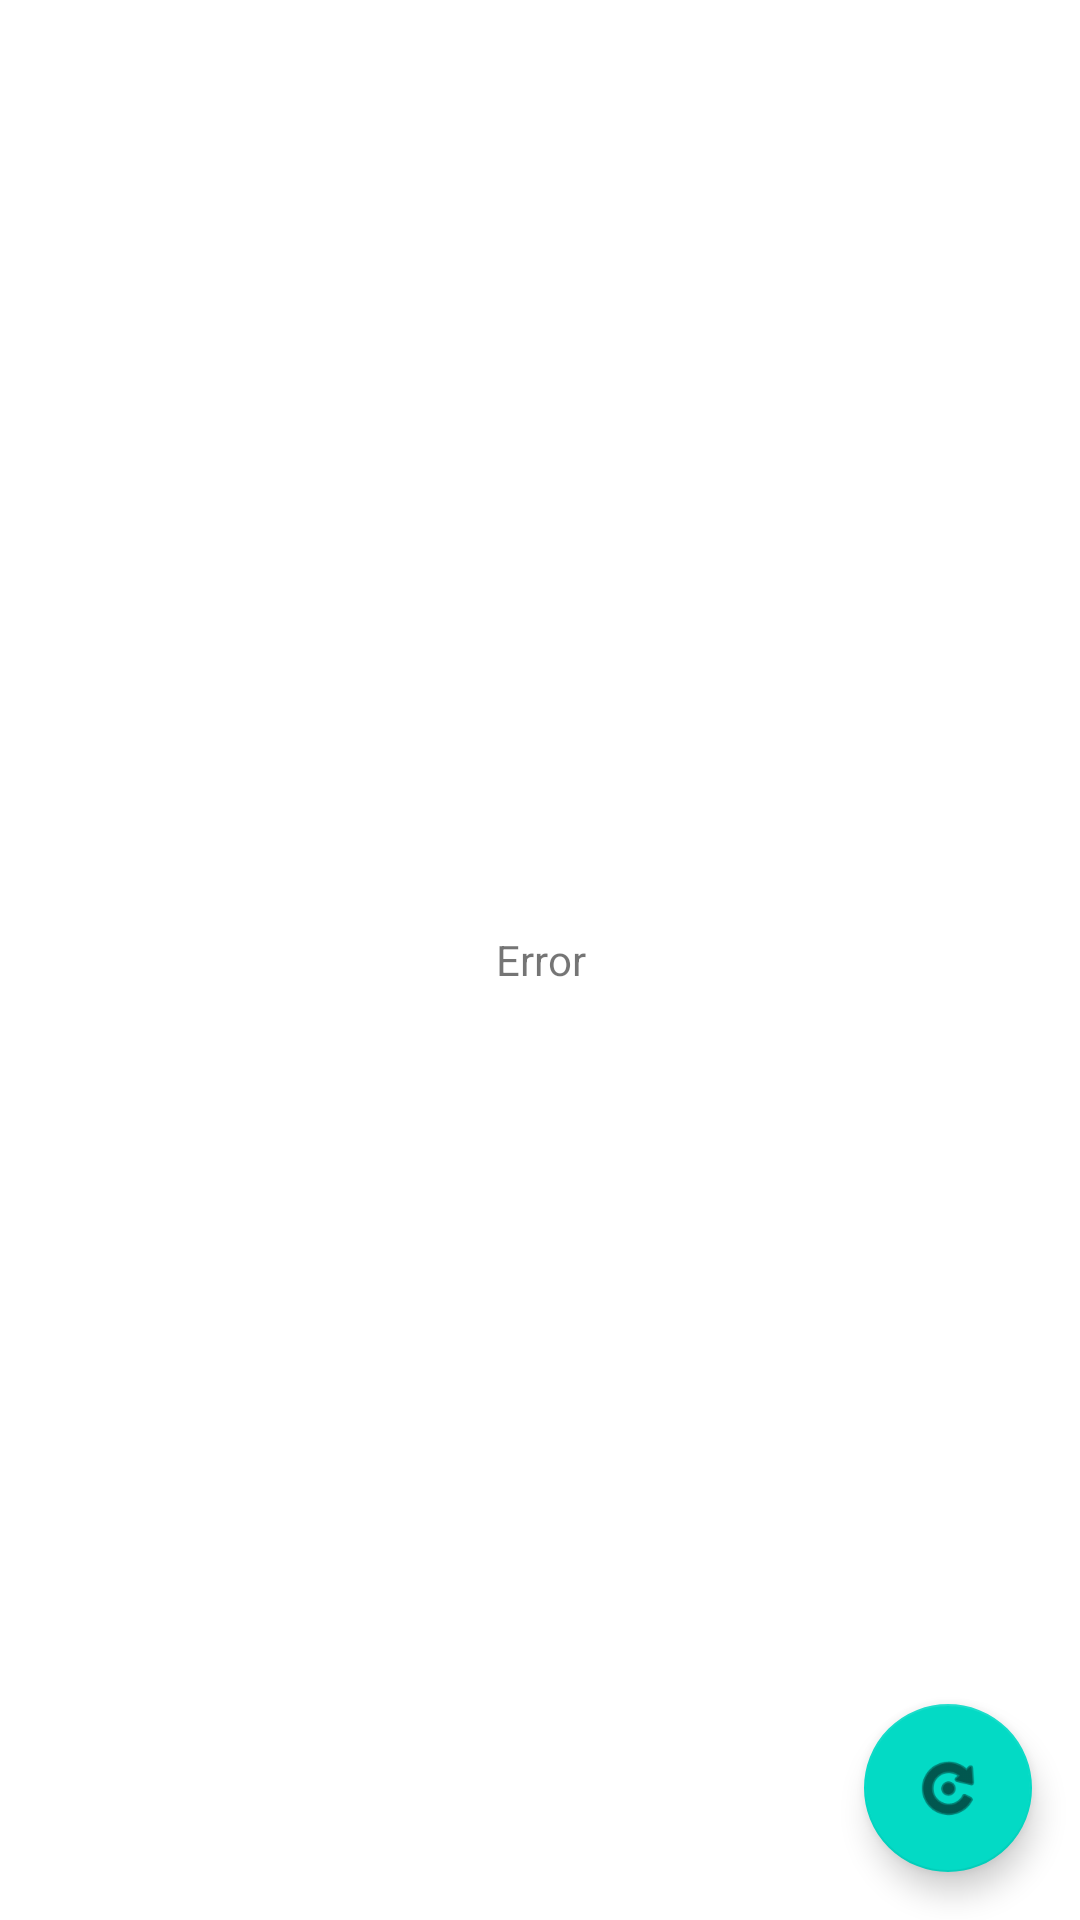

Screen size 1080px×1920px. Icon name, then its box in pixels as region(x1, y1, x2, y2):
rotate: region(864, 1704, 1032, 1872)
